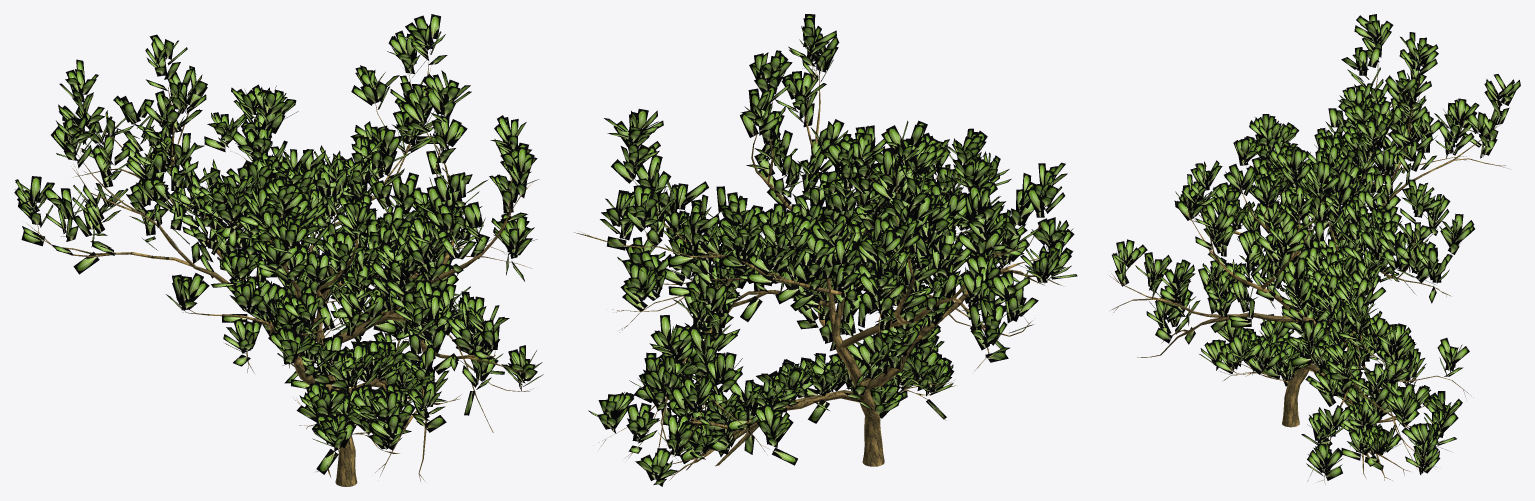
File: planta_matorral.glb
3 renders of one model, left to right at view 1: azimuth 30°, elevation 25°; view 2: azimuth 150°, elevation 25°; view 3: azimuth 270°, elevation 25°, orthographic. The views are drawn at different scales.
Visible parts, largest first — view 1: planta_matorral; view 2: planta_matorral; view 3: planta_matorral.
Boxes of the visible parts, x1,y1,x2,y2 form: planta_matorral: [14, 14, 543, 486]; planta_matorral: [574, 14, 1077, 486]; planta_matorral: [1110, 14, 1520, 483].
Bounding box in the file's own units: 152 × 131 × 144.
Materials: 2 (2 with a texture image).
